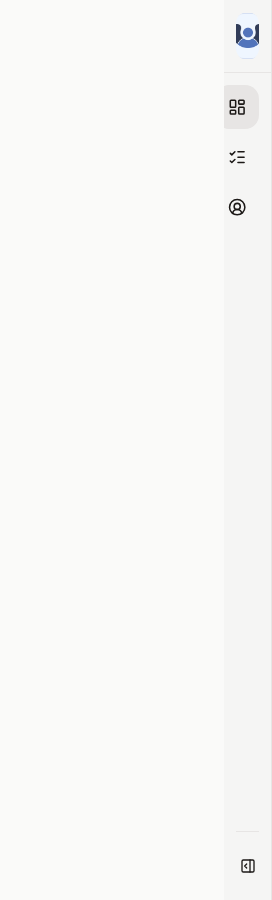
it: opens the standard inline workspace submenu and keeps unauthorized routes hidden
The width and height of the screenshot is (272, 900).
Click the 1st button named "عملیات و مدیریت".
click(237, 157)  # box [215,135,259,179]
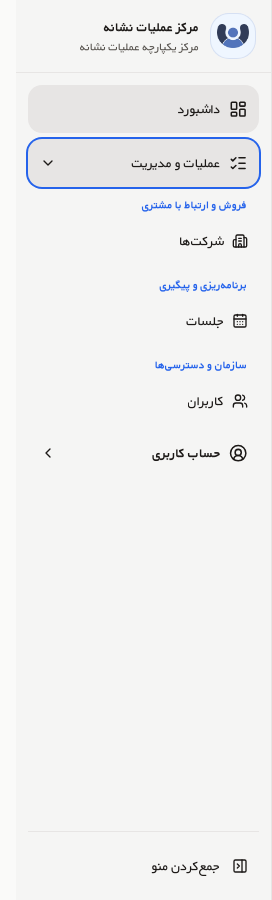
Now the link "شرکت‌ها" is shown, box [179,231,248,251]
Now the button "عملیات و مدیریت" is expanded, box [28,139,259,187]
